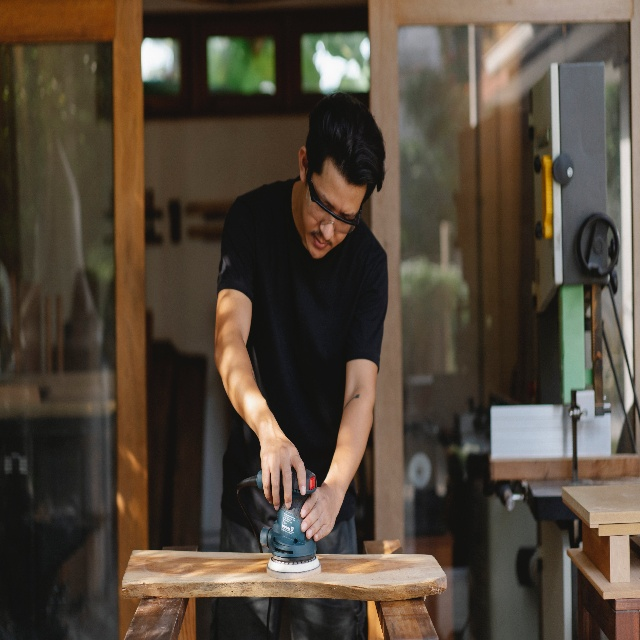Gafas: (306, 164, 362, 234)
Sin_guantes: (260, 426, 307, 511), (300, 481, 339, 542)
